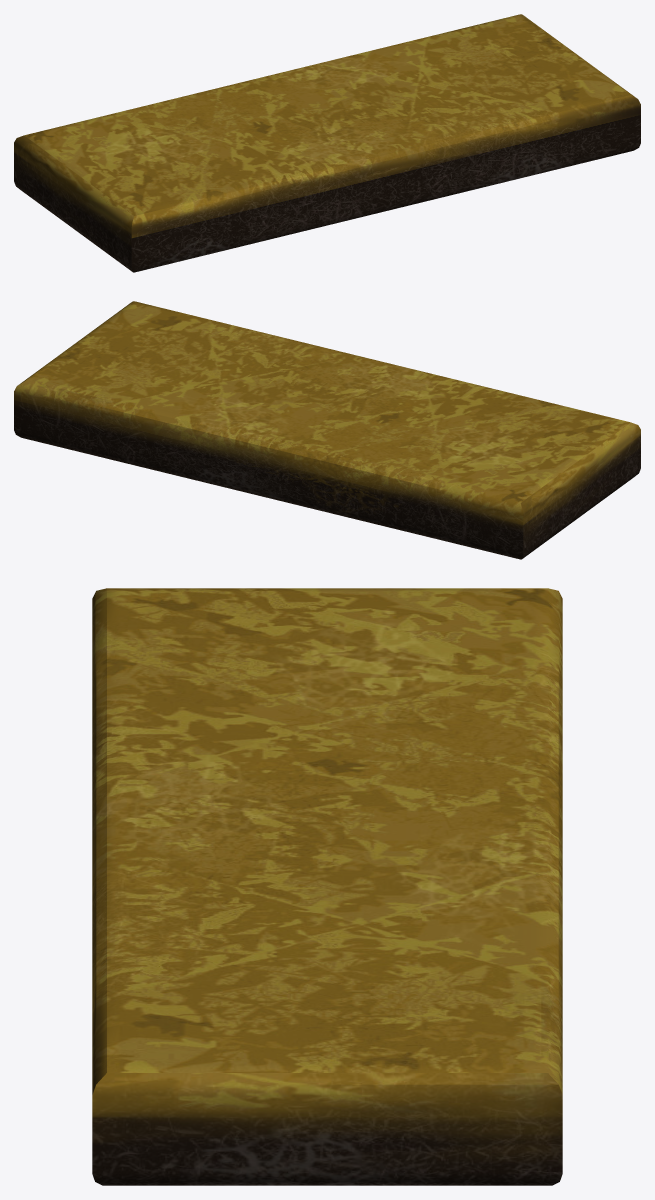
The model's file is platform2.fbx.
3 renders of one model, top to bottom at view 1: azimuth 30°, elevation 25°; view 2: azimuth 150°, elevation 25°; view 3: azimuth 270°, elevation 25°, orthographic. The views are drawn at different scales.
Parts seen in each view (by area): view 1: pCube1; view 2: pCube1; view 3: pCube1.
Part boxes in pixels (x1,y1,x2,y2): pCube1: (14, 14, 640, 272); pCube1: (14, 301, 640, 559); pCube1: (92, 588, 562, 1185).
Bounding box in the file's own units: 10 × 1.09 × 4.
Materials: 1 (1 with a texture image).
